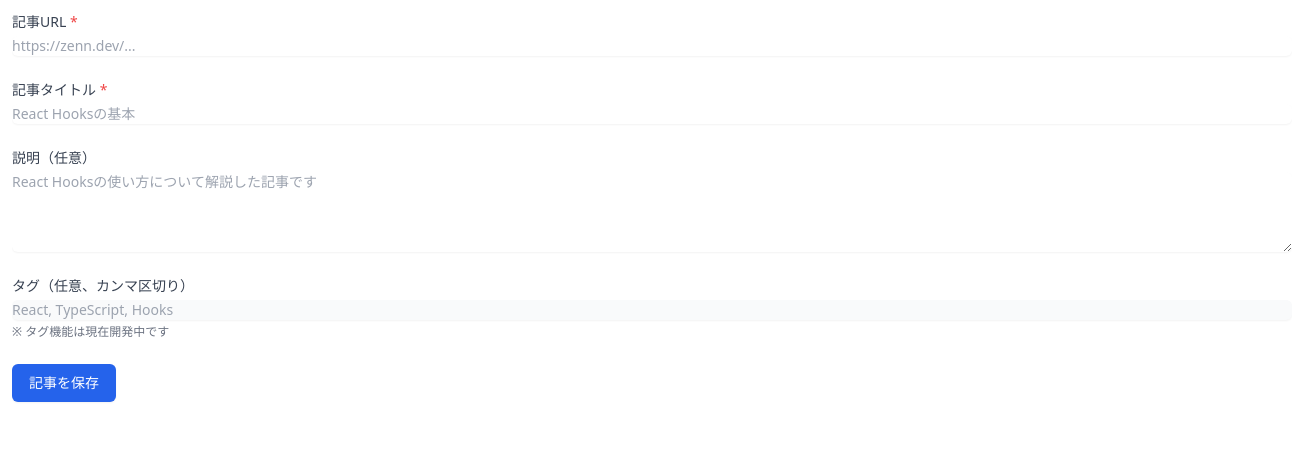
Test: ArticleForm › プラットフォーム自動判定 › QiitaのURLを入力すると自動判定結果が表示される
In the field labelled "記事URL *": x=652, y=46 [12,36,1292,56], type "https://qiita.com/user/items/12345"
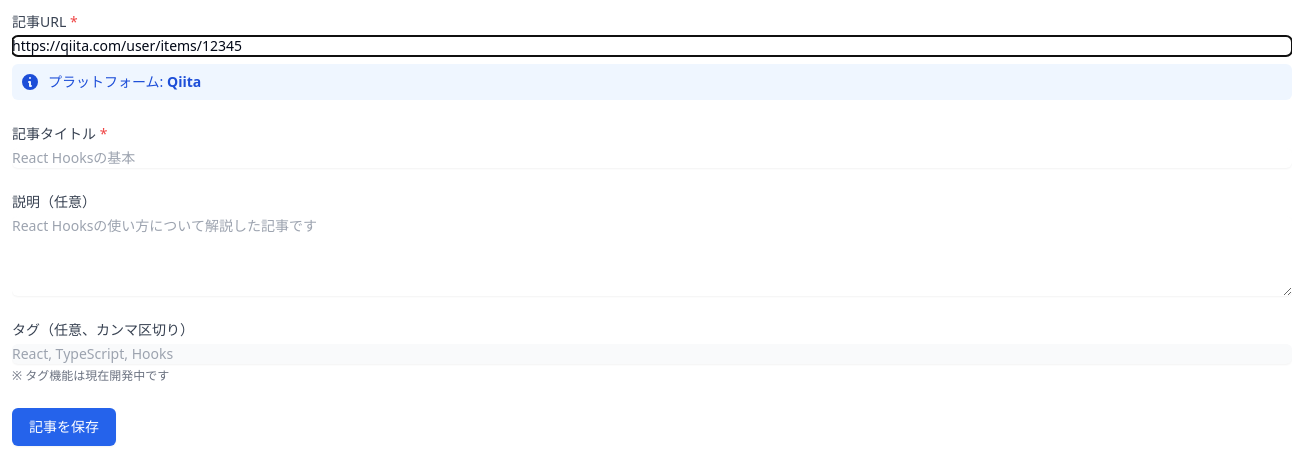
Now the text "プラットフォーム: Qiita" is shown, box [48,72,201,92]
Now the text "Qiita" is shown, box [167,72,201,91]
